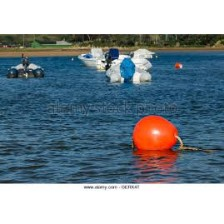buoy: (133, 114, 178, 152), (174, 62, 181, 69)
